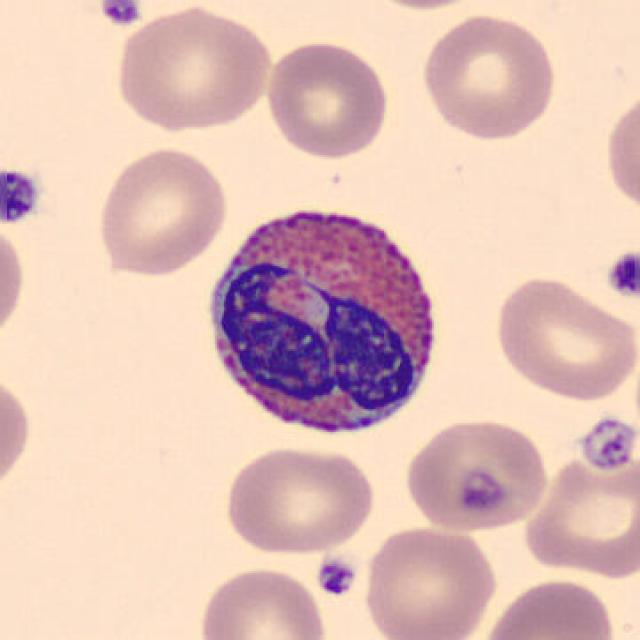Eosinophil: (196, 189, 452, 453)
Platelets: (578, 413, 638, 474), (0, 165, 44, 227), (315, 554, 359, 600), (604, 248, 638, 302), (96, 0, 144, 28)
RBC: (110, 2, 276, 134), (416, 9, 560, 143), (491, 273, 638, 404), (93, 142, 231, 278), (400, 413, 551, 536), (220, 441, 378, 557), (359, 522, 500, 640), (261, 37, 393, 160), (519, 448, 638, 580), (194, 562, 330, 640), (478, 575, 622, 640), (602, 84, 640, 218), (0, 365, 36, 504), (0, 215, 30, 349), (351, 0, 492, 12)
